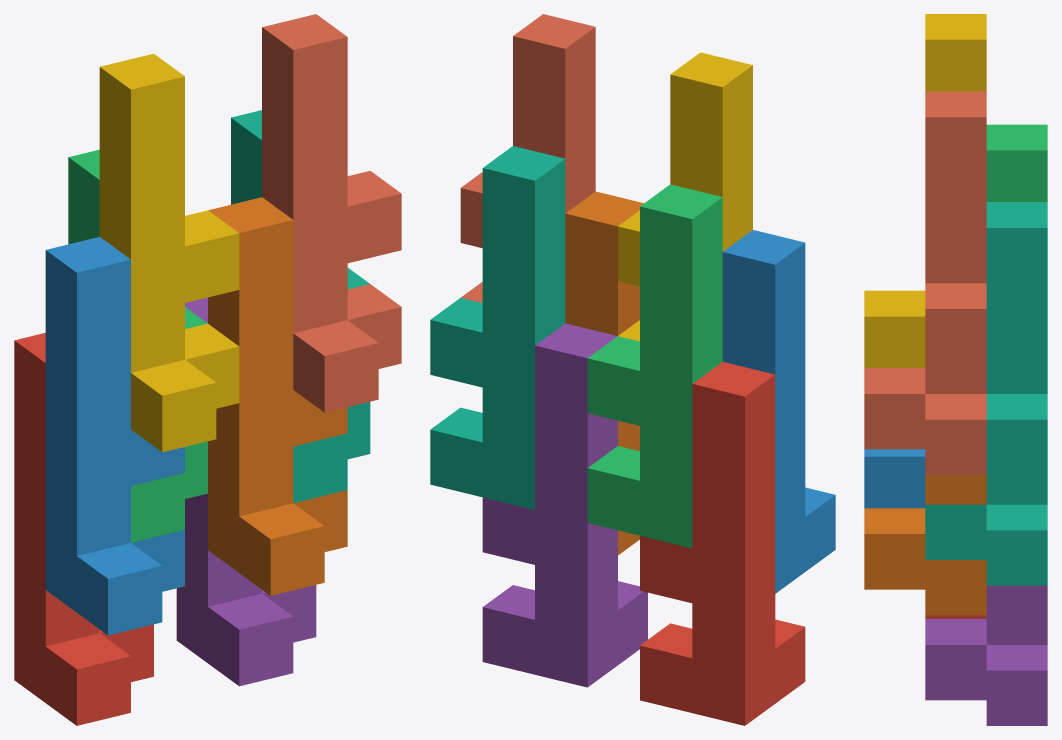
The model's file is tiling.obj.
3 renders of one model, left to right at view 1: azimuth 30°, elevation 25°; view 2: azimuth 150°, elevation 25°; view 3: azimuth 270°, elevation 25°, orthographic. The views are drawn at different scales.
Parts seen in each view (by area): view 1: copy_1_domain_2, copy_1_domain_8, copy_1_domain_4, copy_1_domain_6, copy_1_domain_1, copy_1_domain_5, copy_1_domain_7, copy_1_domain_3; view 2: copy_1_domain_1, copy_1_domain_5, copy_1_domain_7, copy_1_domain_3, copy_1_domain_2, copy_1_domain_8, copy_1_domain_4, copy_1_domain_6; view 3: copy_1_domain_8, copy_1_domain_7, copy_1_domain_5, copy_1_domain_6, copy_1_domain_4, copy_1_domain_3, copy_1_domain_2.
Boxes of the visible parts, x1,y1,x2,y2 form: copy_1_domain_2: (45, 236, 184, 635); copy_1_domain_8: (262, 14, 401, 412); copy_1_domain_4: (99, 53, 239, 452); copy_1_domain_6: (208, 197, 347, 595); copy_1_domain_1: (14, 333, 153, 725); copy_1_domain_5: (176, 297, 316, 686); copy_1_domain_7: (231, 110, 370, 502); copy_1_domain_3: (68, 149, 207, 542); copy_1_domain_1: (640, 362, 805, 725); copy_1_domain_5: (482, 323, 647, 687); copy_1_domain_7: (430, 146, 565, 509); copy_1_domain_3: (587, 184, 722, 548); copy_1_domain_2: (722, 230, 835, 593); copy_1_domain_8: (460, 14, 595, 302); copy_1_domain_4: (618, 52, 752, 341); copy_1_domain_6: (565, 191, 643, 555); copy_1_domain_8: (864, 91, 986, 474); copy_1_domain_7: (925, 202, 1047, 585); copy_1_domain_5: (925, 585, 1047, 725); copy_1_domain_6: (864, 475, 986, 615); copy_1_domain_4: (864, 14, 986, 367); copy_1_domain_3: (986, 124, 1047, 201); copy_1_domain_2: (864, 449, 925, 508).
Size of the model in its own units: 6 by 11 by 3.
